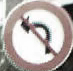Don't turn left: (2, 3, 68, 65)
